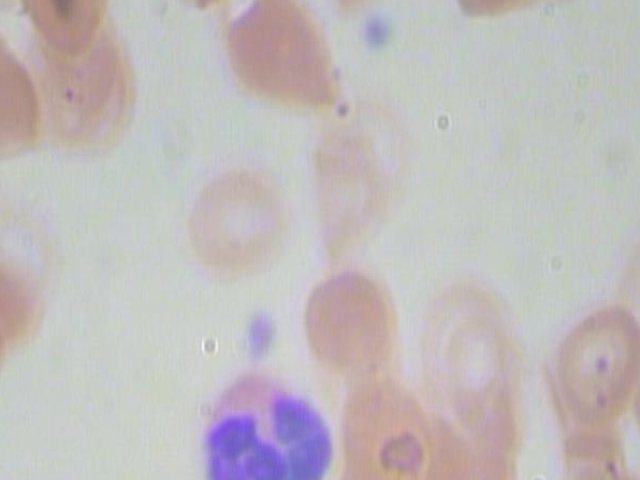Platelets: (352, 4, 400, 70), (235, 306, 283, 371)
RBC: (297, 127, 411, 265), (24, 20, 138, 158), (176, 159, 296, 278), (286, 258, 406, 377), (220, 0, 346, 112), (546, 287, 640, 425), (413, 276, 507, 394), (328, 401, 442, 480), (7, 0, 132, 63), (439, 422, 520, 480), (439, 0, 556, 33), (563, 454, 640, 480), (305, 0, 418, 8)
WBC: (181, 371, 344, 480)
